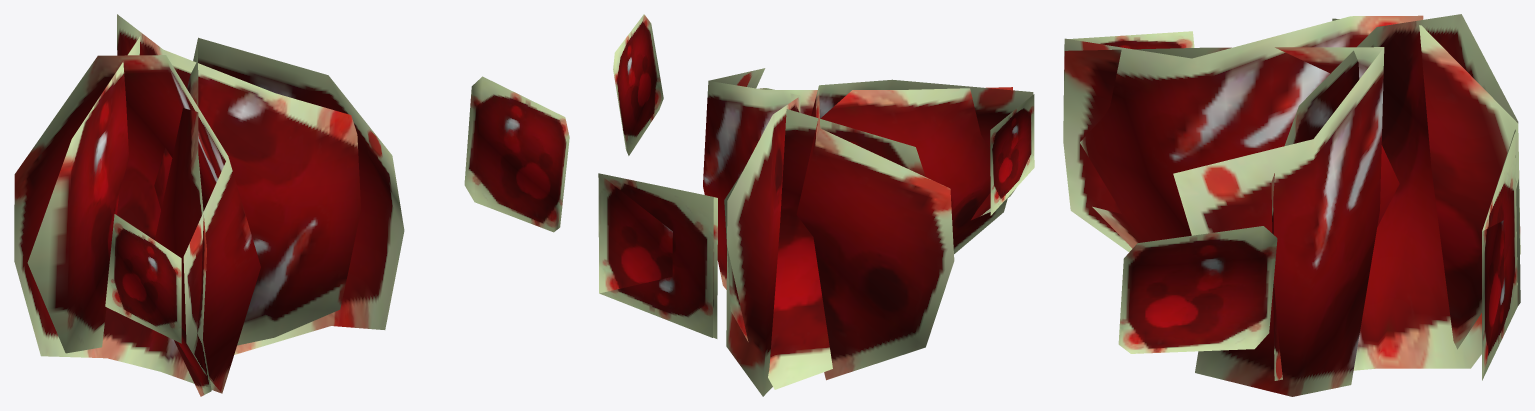
Rendered from Zombie_Broken_Normal_Body_1b1d890b__Zombie_Broken_Green_0_bb717ba8_c1f257.obj.
The picture shows the model from 3 angles, left to right: view 1: azimuth 30°, elevation 25°; view 2: azimuth 150°, elevation 25°; view 3: azimuth 270°, elevation 25°; orthographic projection. The views are drawn at different scales.
Size of the model in its own units: 0.7389 by 0.504 by 0.5952.
Materials: 1 (1 with a texture image).
